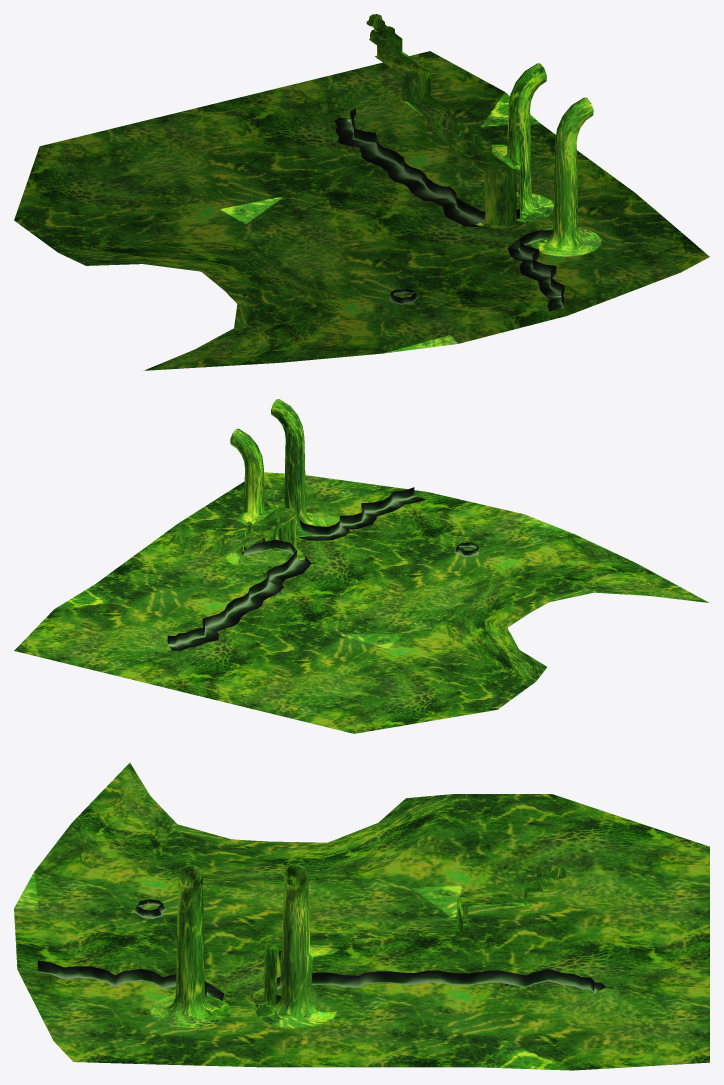
Rendered from stg610_MotLiquid_20.obj.
3 renders of one model, top to bottom at view 1: azimuth 30°, elevation 25°; view 2: azimuth 150°, elevation 25°; view 3: azimuth 270°, elevation 25°, orthographic. The views are drawn at different scales.
Parts seen in each view (by area): view 1: polygon8, polygon5, polygon6, polygon1, polygon2, polygon7, polygon3, polygon4, polygon0; view 2: polygon8, polygon6, polygon5, polygon1, polygon7, polygon2, polygon3, polygon4; view 3: polygon8, polygon1, polygon5, polygon6, polygon7, polygon3, polygon4, polygon2, polygon0.
Boxes of the visible parts, x1,y1,x2,y2 form: polygon8: [14, 51, 709, 370]; polygon5: [530, 97, 601, 256]; polygon6: [335, 108, 529, 228]; polygon1: [490, 63, 553, 221]; polygon2: [449, 145, 525, 228]; polygon7: [389, 230, 564, 311]; polygon3: [401, 96, 482, 149]; polygon4: [375, 51, 430, 101]; polygon0: [366, 14, 402, 58]; polygon8: [14, 472, 708, 733]; polygon6: [167, 539, 311, 650]; polygon5: [271, 399, 325, 537]; polygon1: [225, 428, 284, 565]; polygon7: [299, 487, 479, 556]; polygon2: [252, 506, 305, 560]; polygon3: [204, 521, 266, 558]; polygon4: [177, 529, 224, 556]; polygon8: [14, 763, 709, 1070]; polygon1: [255, 863, 340, 1028]; polygon5: [150, 863, 230, 1028]; polygon6: [251, 969, 605, 1007]; polygon7: [37, 899, 224, 1000]; polygon3: [343, 918, 471, 947]; polygon4: [456, 890, 531, 933]; polygon2: [252, 932, 356, 1005]; polygon0: [523, 864, 568, 906].
Size of the model in its own units: 1697 by 406 by 1619.
Materials: 3 (3 with a texture image).
